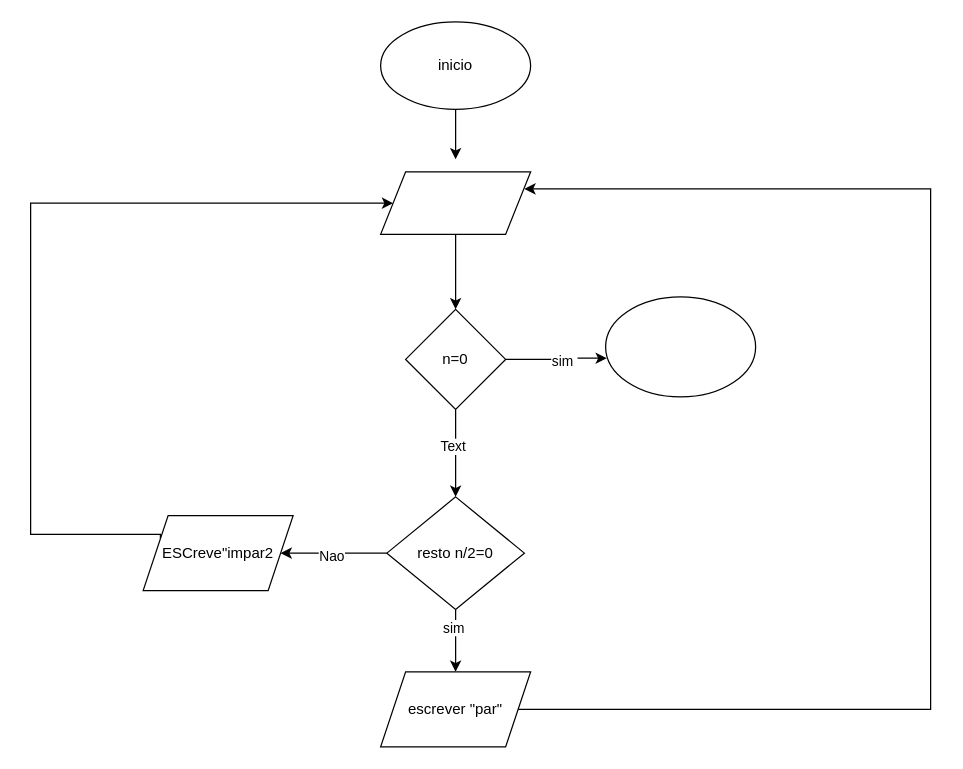
This 963x769 diagram has some shape labels left out. The box of each missing label's shape, as (x1, y1, x2, y2) in pixels:
fim: (604, 296, 756, 397)
ler n: (379, 171, 531, 234)
